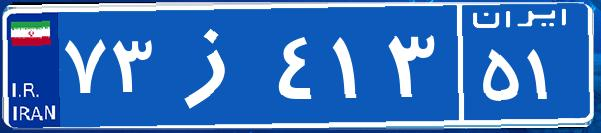1: (330, 28, 385, 110), (525, 38, 570, 115)
3: (385, 28, 445, 110), (110, 28, 158, 105)
4: (273, 28, 330, 110)
5: (475, 38, 525, 113)
7: (57, 26, 110, 107)
ز: (158, 15, 273, 115)
